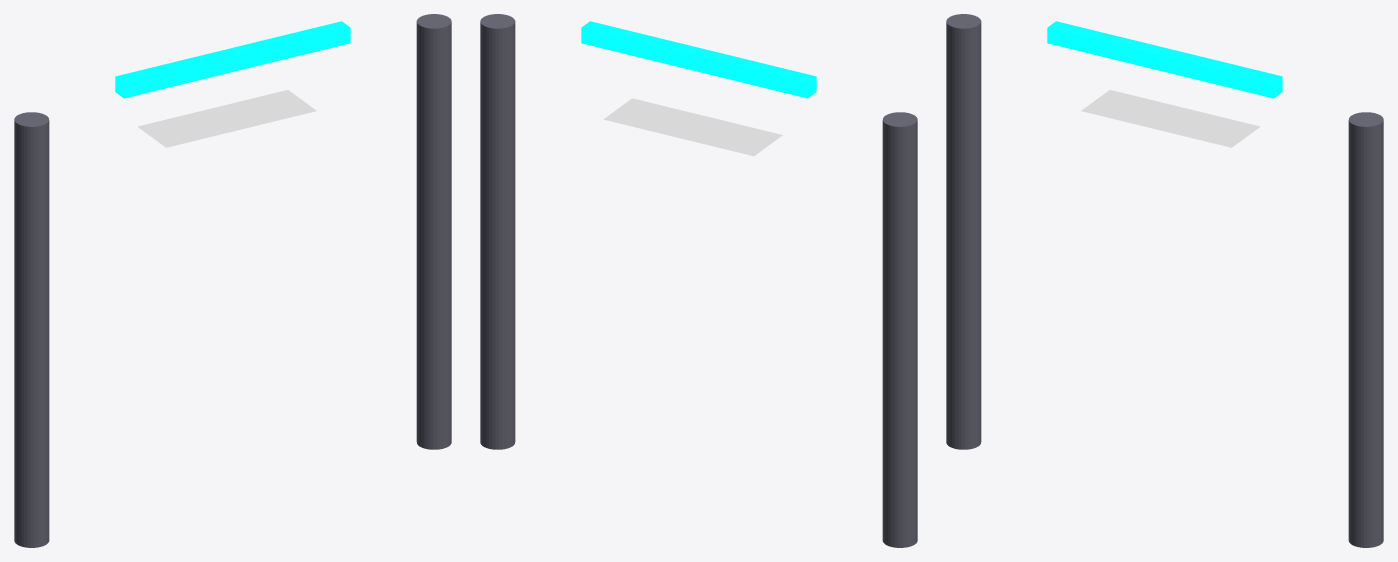
The model's file is race_checkpoint.glb.
The picture shows the model from 3 angles, left to right: view 1: azimuth 30°, elevation 25°; view 2: azimuth 150°, elevation 25°; view 3: azimuth 330°, elevation 25°; orthographic projection.
Parts seen in each view (by area): view 1: Cylinder, Cylinder.001, Cube, Plane; view 2: Cylinder, Cylinder.001, Cube, Plane; view 3: Cylinder, Cylinder.001, Cube, Plane.
Boxes of the visible parts, left/top/right/bottom form: Cylinder: left=14, top=112, right=49, bottom=547; Cylinder.001: left=416, top=14, right=451, bottom=449; Cube: left=115, top=21, right=350, bottom=98; Plane: left=137, top=90, right=316, bottom=147; Cylinder: left=882, top=112, right=917, bottom=547; Cylinder.001: left=480, top=14, right=515, bottom=449; Cube: left=581, top=21, right=816, bottom=98; Plane: left=603, top=98, right=782, bottom=156; Cylinder: left=946, top=14, right=981, bottom=449; Cylinder.001: left=1348, top=112, right=1383, bottom=547; Cube: left=1047, top=21, right=1282, bottom=98; Plane: left=1081, top=90, right=1260, bottom=147.
Size of the model in its own units: 8.6 by 8.35 by 1.
